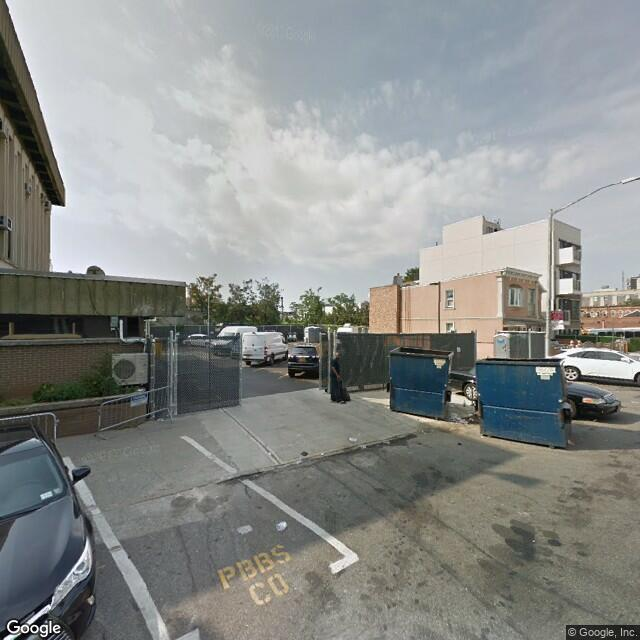litter: (450, 414, 467, 422), (276, 521, 286, 531), (456, 441, 463, 448), (357, 443, 364, 449), (348, 437, 357, 441), (299, 451, 308, 455), (158, 415, 164, 419), (478, 435, 483, 439), (317, 453, 325, 454)
